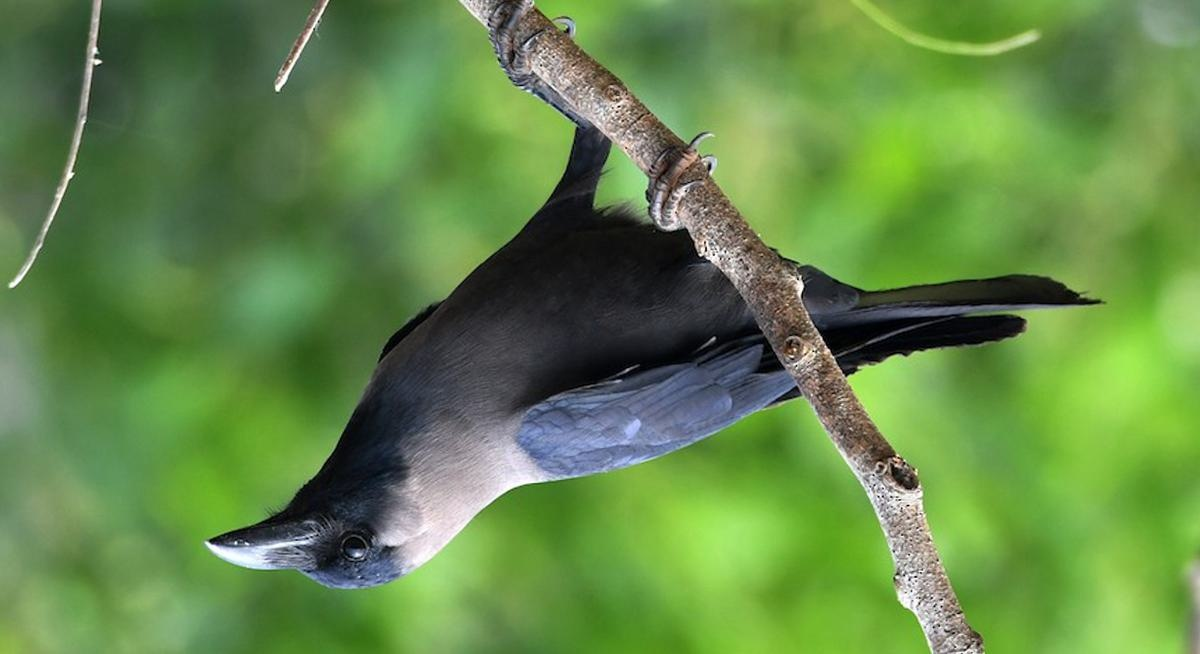crow: (196, 173, 1170, 611)
